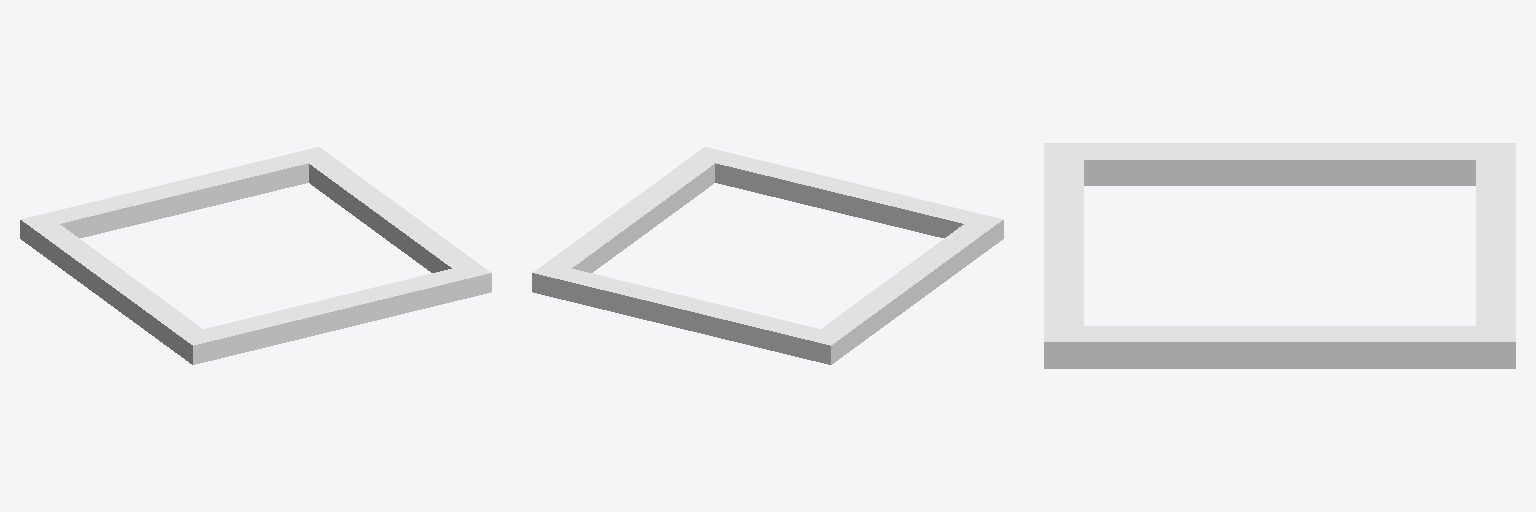
URDF robot description (wall.obj):
<robot name="wall.obj">
	<link name="_name">
		<visual>
			<origin xyz="0.0 0.0 -37.5" rpy="0 0 0" />
			<geometry>
				<mesh filename="wall.obj" scale="1.0 1.0 1.0" />
			</geometry>
			<material name="texture">
				<color rgba="1.0 1.0 1.0 1.0" />
			</material>
		</visual>
		<collision>
			<geometry>
				<mesh filename="wall_vhacd.obj" scale="1.0 1.0 1.0" />
			</geometry>
		<origin xyz="0.0 0.0 -37.5" rpy="0 0 0" /></collision>
		<inertial>
			<mass value="1.0" />
			<inertia ixx="1.0" ixy="0.0" ixz="0.0" iyy="1.0" iyz="0.0" izz="1.0" />
		</inertial>
	</link>
</robot>

--- Facts derived from the render (not from the file) ---
Views: 3 orthographic renders of the robot side by side, from view 1: azimuth 30°, elevation 25°; view 2: azimuth 150°, elevation 25°; view 3: azimuth 270°, elevation 25°.
Model wall.obj with 1 links and 0 joints (none), rooted at _name, posed every joint at zero.
Links seen in each view (by area): view 1: _name; view 2: _name; view 3: _name.
Boxes of the visible links, x1,y1,x2,y2 form: _name: (20, 147, 491, 364); _name: (532, 147, 1003, 364); _name: (1044, 143, 1515, 368).
Size in the robot's own frame: 1200 by 1200 by 75 metres.
1 mesh visuals loaded from 1 distinct referenced files (1 OBJ).